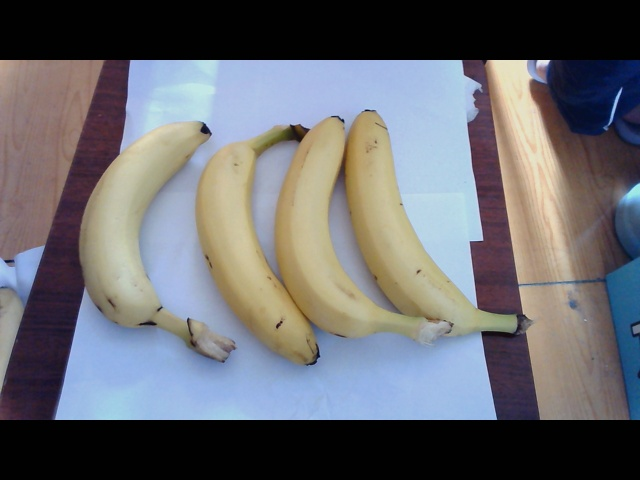banana: (347, 111, 521, 332), (72, 119, 193, 357), (195, 122, 286, 385), (279, 112, 357, 344)
